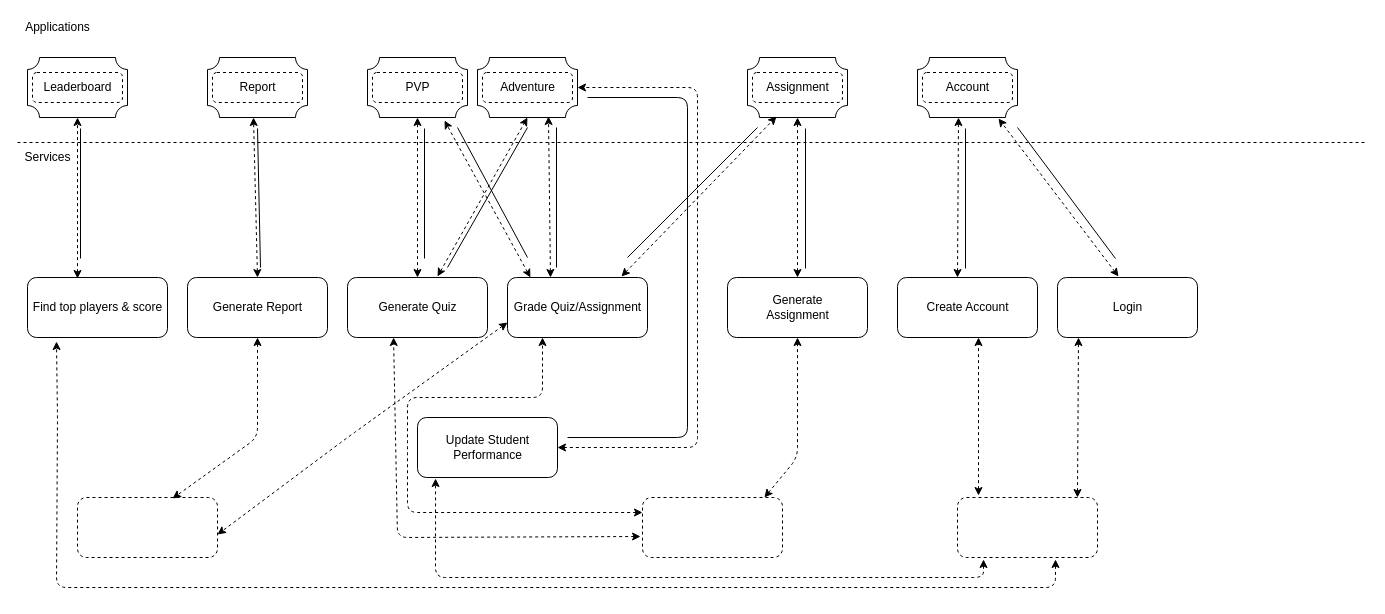
The diagram is 1385 pixels wide and 614 high, and some of its shapes have lost their labels. The shapes that lost their labels are listed below. From the top down, each one's centre as x and y in pixels, then its label:
At pixel 147 527: "Question Performance History".
At pixel 712 527: "Question Bank".
At pixel 1027 527: "Student Info".
